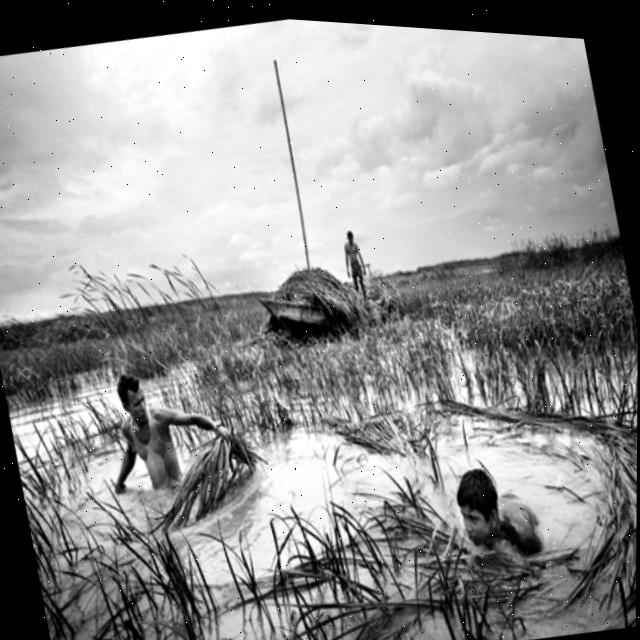civilian: (93, 344, 256, 522), (424, 444, 559, 582), (334, 220, 381, 308)
